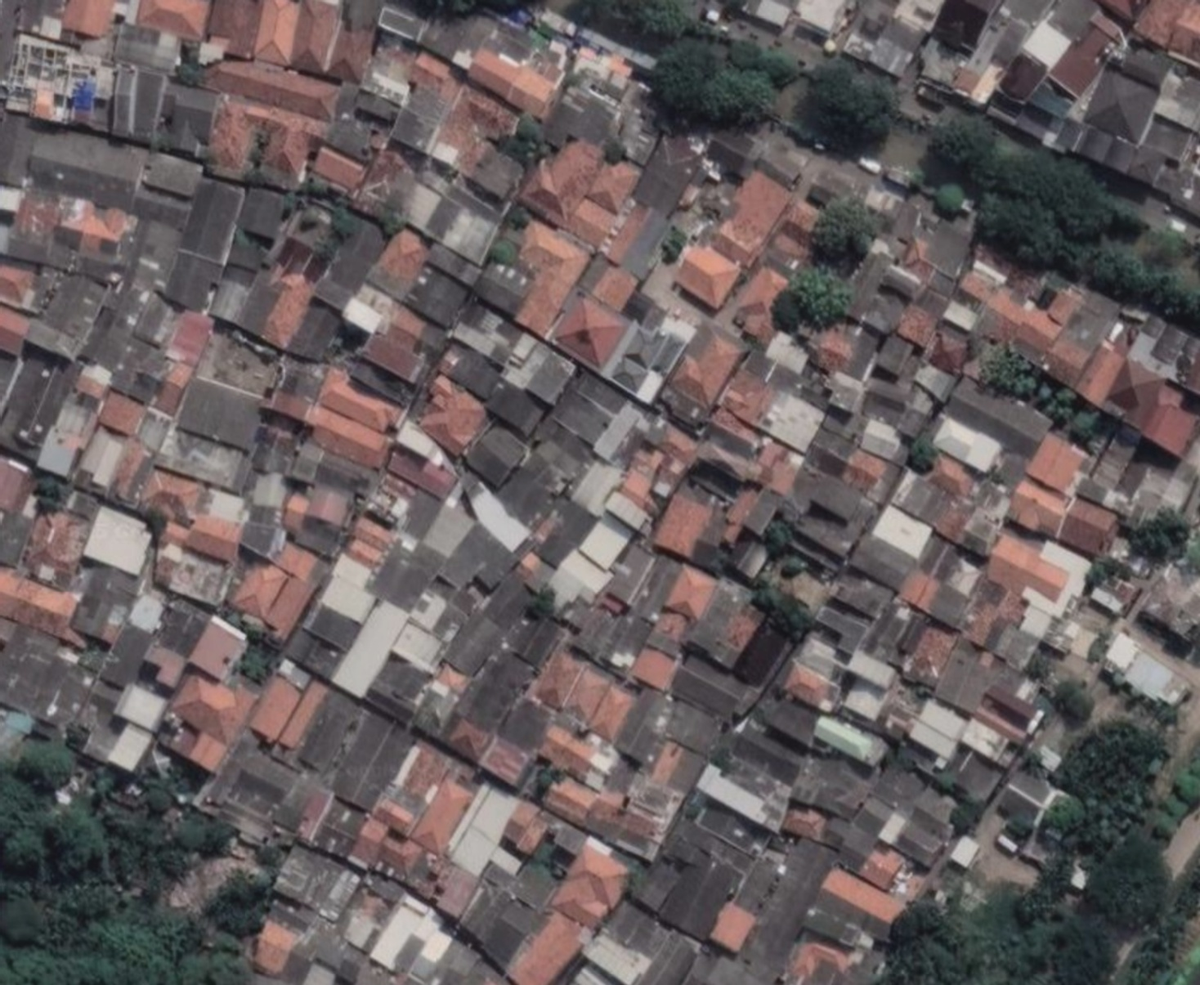building: (1014, 0, 1200, 217), (346, 737, 523, 916), (707, 822, 837, 985), (563, 717, 704, 866), (828, 759, 969, 907), (985, 0, 1127, 145), (409, 0, 575, 123), (1071, 31, 1200, 184), (545, 280, 689, 409), (196, 736, 340, 863), (902, 0, 1059, 114), (1078, 36, 1200, 175), (513, 123, 644, 251), (358, 581, 471, 722), (734, 834, 839, 985), (1033, 285, 1151, 410), (717, 344, 841, 461), (444, 299, 577, 408), (432, 640, 539, 769), (482, 217, 594, 340), (199, 92, 328, 198), (231, 256, 351, 369), (0, 612, 105, 739), (0, 28, 121, 138), (5, 184, 138, 283), (151, 661, 259, 777), (160, 175, 247, 318), (19, 119, 148, 215), (394, 165, 511, 269), (439, 567, 543, 684), (906, 455, 1018, 561), (770, 462, 880, 569), (1094, 355, 1200, 465), (576, 895, 704, 985), (797, 863, 906, 968), (661, 791, 773, 892), (527, 645, 641, 744), (890, 531, 996, 637), (652, 319, 750, 433), (939, 368, 1054, 465), (976, 528, 1089, 624), (200, 48, 343, 123), (544, 365, 648, 465), (515, 125, 613, 230), (692, 744, 801, 837), (31, 365, 116, 482), (449, 876, 547, 975), (323, 709, 414, 815), (81, 672, 172, 777), (705, 166, 796, 271), (1092, 628, 1192, 722), (834, 0, 944, 84), (547, 836, 639, 936), (327, 596, 414, 701), (363, 891, 460, 985), (22, 264, 111, 366), (681, 575, 772, 673), (0, 347, 77, 460), (894, 201, 985, 296), (841, 0, 946, 82), (344, 147, 436, 240), (655, 847, 742, 945), (459, 41, 562, 123), (1042, 11, 1131, 105), (309, 215, 392, 315), (403, 371, 495, 461), (647, 479, 736, 572), (288, 0, 384, 85), (440, 780, 521, 879), (112, 217, 181, 331), (971, 283, 1065, 366), (499, 903, 594, 985), (269, 842, 362, 925), (546, 288, 634, 374), (386, 63, 464, 160), (173, 373, 267, 453), (1080, 61, 1166, 147), (429, 520, 514, 607), (692, 761, 789, 837), (628, 128, 707, 221), (296, 401, 394, 475), (290, 687, 368, 779), (1130, 556, 1200, 658), (64, 559, 143, 649), (153, 425, 253, 496), (566, 597, 653, 678), (15, 502, 94, 590), (666, 651, 756, 727), (313, 366, 406, 439), (788, 745, 875, 823), (600, 196, 678, 282), (492, 451, 573, 533), (1122, 311, 1200, 395), (664, 236, 745, 315), (495, 331, 578, 408), (926, 638, 1003, 720), (75, 307, 155, 385), (532, 721, 619, 792), (157, 505, 247, 573), (608, 684, 680, 768), (723, 718, 809, 788), (147, 542, 235, 610), (1131, 432, 1200, 518), (456, 479, 533, 556), (521, 422, 598, 499), (0, 566, 80, 640), (79, 504, 158, 578), (363, 224, 436, 304), (954, 578, 1025, 657), (103, 62, 169, 145), (989, 762, 1063, 836), (261, 350, 330, 429), (1121, 0, 1200, 69), (459, 418, 532, 492), (528, 497, 599, 573), (728, 617, 798, 694), (290, 478, 355, 560), (926, 413, 1007, 478), (541, 545, 613, 618), (858, 597, 928, 672), (727, 261, 790, 344), (365, 893, 430, 973), (367, 542, 438, 615), (755, 386, 828, 457), (357, 320, 433, 388), (250, 900, 313, 982), (182, 613, 252, 686), (807, 710, 890, 771), (1021, 429, 1092, 500), (400, 263, 472, 333), (738, 430, 810, 500), (155, 81, 220, 158), (606, 794, 675, 865), (1001, 475, 1073, 543), (406, 662, 470, 738), (242, 671, 305, 748), (0, 0, 62, 78), (1053, 494, 1122, 564), (600, 100, 667, 172), (845, 530, 919, 595), (120, 216, 183, 292), (698, 117, 767, 186), (460, 142, 530, 210), (923, 0, 1003, 59), (202, 98, 260, 178), (435, 338, 506, 403), (450, 83, 522, 147), (469, 253, 537, 320), (479, 376, 549, 441), (382, 445, 460, 503), (579, 924, 653, 985), (714, 364, 781, 431), (415, 493, 480, 562), (97, 617, 156, 693), (274, 678, 332, 755), (136, 465, 206, 528), (656, 696, 726, 759), (258, 571, 318, 644), (714, 364, 780, 430), (548, 384, 615, 449), (226, 555, 289, 624), (599, 540, 659, 612), (544, 86, 617, 145), (940, 746, 1006, 811), (887, 467, 955, 530), (1070, 339, 1130, 410), (147, 595, 211, 661), (504, 606, 568, 672), (838, 246, 892, 324), (622, 849, 684, 916), (977, 676, 1044, 737), (110, 21, 185, 75), (627, 552, 683, 624), (334, 886, 394, 953), (589, 397, 647, 466), (337, 510, 399, 574), (800, 468, 866, 528), (901, 622, 959, 690), (494, 693, 555, 757), (282, 622, 347, 682), (660, 562, 720, 627), (869, 502, 935, 561), (566, 453, 625, 518), (243, 915, 302, 980), (232, 183, 290, 249), (73, 426, 131, 492), (107, 344, 168, 406), (300, 596, 364, 655), (496, 797, 555, 861), (756, 693, 822, 750), (202, 0, 263, 61), (829, 567, 893, 625), (137, 148, 204, 203), (575, 511, 634, 573), (309, 798, 367, 861), (180, 509, 244, 566), (106, 437, 158, 507), (808, 600, 871, 657), (161, 305, 216, 370), (778, 660, 843, 715), (568, 43, 635, 96), (909, 35, 969, 94), (539, 771, 600, 829), (1037, 329, 1095, 390), (250, 0, 302, 67), (389, 619, 450, 676), (561, 193, 620, 251), (505, 855, 563, 914), (306, 143, 369, 197), (872, 681, 926, 744), (311, 450, 379, 500), (128, 180, 193, 232), (993, 48, 1050, 107), (305, 930, 366, 985), (703, 898, 759, 957), (846, 532, 906, 587), (752, 137, 811, 192), (317, 572, 377, 626), (692, 438, 758, 487), (392, 418, 455, 469), (358, 478, 415, 534), (320, 110, 379, 164), (128, 290, 182, 349), (714, 482, 763, 546), (781, 941, 853, 984), (801, 425, 857, 480), (855, 284, 909, 341), (421, 240, 482, 290), (135, 0, 209, 41), (854, 413, 912, 465), (955, 501, 1006, 560), (1087, 433, 1137, 493), (432, 940, 500, 984), (587, 259, 641, 314), (889, 301, 943, 356), (103, 720, 155, 777), (901, 717, 959, 768), (416, 10, 469, 64), (626, 643, 681, 695), (1085, 569, 1140, 621), (957, 715, 1013, 765), (94, 389, 147, 441), (539, 774, 592, 826), (149, 357, 195, 416), (838, 444, 890, 496), (619, 443, 665, 501), (136, 641, 188, 692), (922, 326, 974, 377), (236, 513, 289, 563), (799, 163, 853, 212), (818, 368, 870, 418), (396, 489, 444, 543), (868, 332, 916, 385), (877, 194, 925, 247), (761, 328, 814, 376), (794, 632, 846, 680), (600, 488, 653, 535), (844, 647, 899, 692), (992, 622, 1041, 672), (777, 195, 824, 247), (686, 955, 770, 984), (373, 2, 428, 46), (303, 482, 353, 530), (916, 697, 969, 742), (0, 114, 33, 186), (739, 487, 783, 540), (951, 265, 1000, 312), (129, 404, 175, 454), (907, 359, 957, 405), (646, 606, 692, 656), (224, 228, 270, 277), (271, 538, 320, 584), (382, 302, 431, 348), (337, 294, 387, 339), (124, 589, 170, 636), (350, 88, 401, 130), (261, 384, 313, 425), (614, 466, 661, 511), (1041, 281, 1086, 328), (582, 788, 625, 837), (654, 423, 703, 466), (840, 679, 887, 723), (62, 0, 115, 39), (620, 288, 668, 331), (812, 323, 854, 372), (877, 260, 926, 302), (795, 0, 850, 37), (407, 51, 455, 93), (965, 61, 1007, 109), (780, 803, 828, 844), (511, 548, 554, 593), (1112, 454, 1153, 500), (72, 359, 115, 402), (201, 487, 249, 525), (864, 377, 913, 413), (248, 468, 289, 511), (732, 538, 772, 582), (0, 510, 31, 566), (0, 456, 30, 511), (0, 263, 35, 310), (1016, 601, 1056, 641), (61, 486, 102, 525), (77, 21, 117, 60), (939, 297, 981, 334), (742, 0, 792, 31), (273, 949, 316, 985), (739, 347, 780, 384), (0, 305, 28, 356), (428, 138, 463, 170), (904, 386, 937, 419), (328, 614, 360, 646), (353, 961, 397, 984), (1177, 353, 1200, 394), (1042, 0, 1086, 19), (306, 604, 334, 630), (1103, 318, 1127, 346), (474, 813, 492, 839), (487, 830, 505, 847), (671, 746, 686, 766), (716, 407, 732, 421), (487, 769, 506, 780), (450, 124, 466, 137), (162, 552, 179, 562), (722, 424, 749, 430), (515, 740, 533, 748), (488, 766, 498, 778)
tree: (980, 128, 1138, 257), (1040, 689, 1172, 821), (52, 913, 246, 979), (1067, 242, 1200, 334), (1080, 826, 1180, 934), (797, 57, 907, 155), (703, 27, 801, 133), (873, 891, 983, 985), (966, 190, 1071, 285), (967, 336, 1065, 433), (1124, 874, 1200, 985), (641, 37, 725, 134), (782, 257, 865, 337), (193, 860, 273, 941), (108, 825, 190, 902), (1021, 918, 1115, 985), (920, 112, 1000, 190), (806, 196, 884, 276), (37, 809, 117, 887), (1138, 766, 1200, 852), (0, 888, 63, 970), (1013, 850, 1079, 928), (594, 0, 692, 51), (5, 778, 52, 883), (135, 767, 194, 827), (757, 520, 810, 585), (305, 203, 357, 269), (1136, 516, 1188, 571), (14, 737, 72, 785), (1055, 800, 1108, 852), (176, 816, 232, 865), (757, 584, 810, 630), (1049, 670, 1097, 717), (61, 883, 120, 916), (1082, 549, 1134, 585), (32, 475, 74, 511), (241, 643, 276, 680), (521, 582, 553, 617), (1020, 748, 1048, 776), (955, 801, 981, 830), (909, 435, 929, 471), (932, 770, 962, 794)
